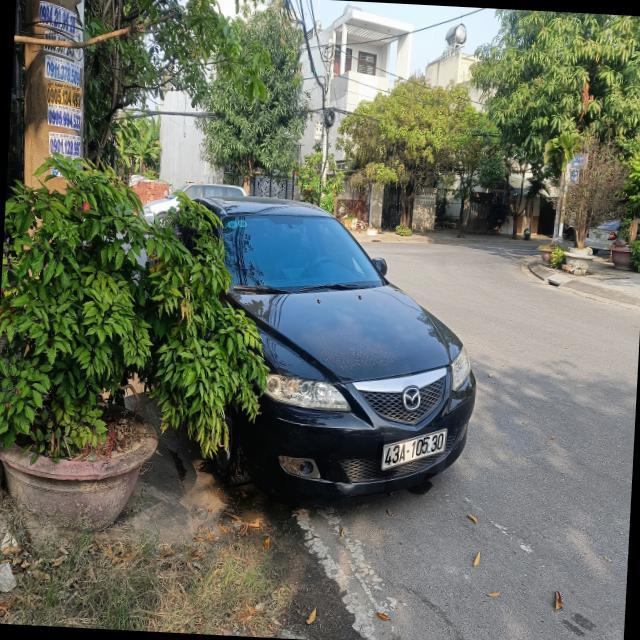car: (210, 190, 478, 506)
plate: (380, 426, 452, 476)
